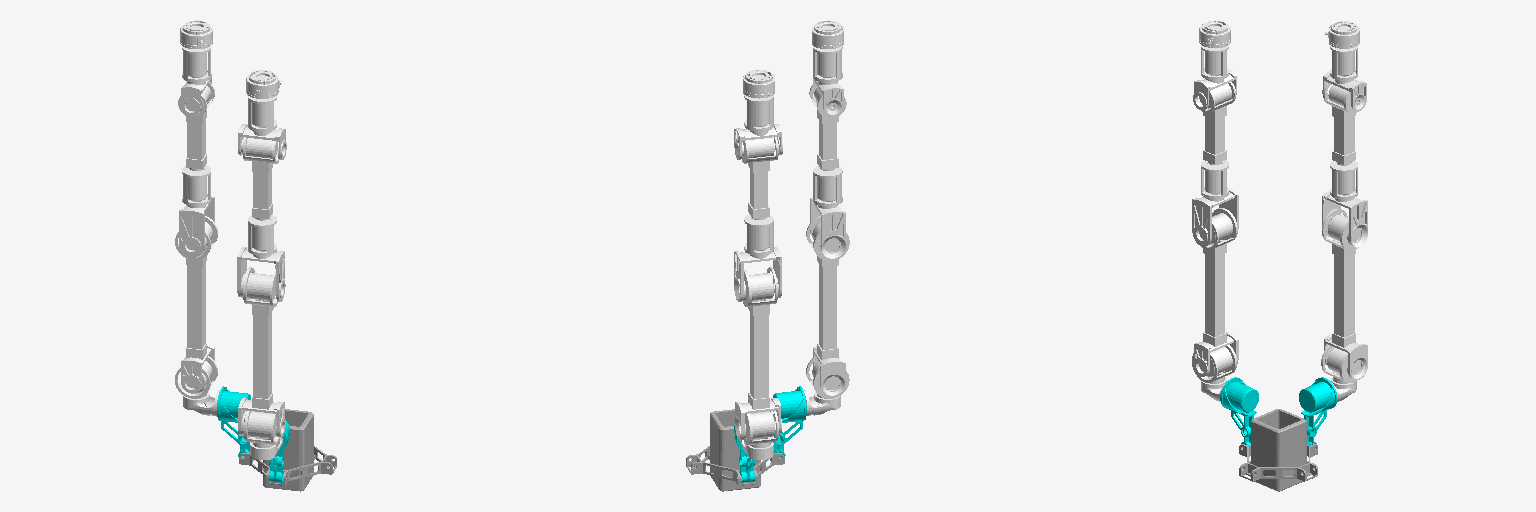
robot.urdf — robot_3dros:
<?xml version="1.0" ?>
<robot name="robot_3dros">
  <link name="base_link">
    <inertial>
      <origin rpy="0 0 0" xyz="0 0 0.042"/>
      <mass value="1.492"/>
      <inertia ixx="0.004886486" ixy="-0.000017397" ixz="-0.000263075" iyy="0.004100237" iyz="0" izz="0.003937989"/>
    </inertial>
    <visual>
      <origin rpy="0 0 0" xyz="0 0 0"/>
      <geometry>
        <mesh filename="package://robot_3dros/meshes/base_link.STL"/>
      </geometry>
      <material name="">
        <color rgba="0.75294 0.75294 0.75294 1"/>
      </material>
    </visual>
    <collision>
      <origin rpy="0 0 0" xyz="0 0 0.04"/>
      <geometry>
        <box size="0.10 0.10 0.14"/>
      </geometry>
      <surface>
        <friction>
          <torsional>
            <coefficient>5.0</coefficient>
            <surface_radius>0.10</surface_radius>
            <use_patch_radius>false</use_patch_radius>
          </torsional>
        </friction>
      </surface>
    </collision>
  </link>

  <link name="Link2_0">
    <inertial>
      <origin rpy="0 0 0" xyz="0.085427 -0.025518 0"/>
      <mass value="0.960"/>
      <inertia ixx="0.000648473" ixy="-0.001018876" ixz="0.000012959" iyy="0.002674366" iyz="0" izz="0.003031056"/>
    </inertial>
    <!--重心:(毫米)	X = 85.427 Y = -25.518 Z = -0.131
    惯性张量: (千克*平方毫米)由重心决定，并且对齐输出的坐标系。Lxx = 648.473	Lxy = -1018.876	Lxz = 12.959 Lyy = 2674.366	Lyz = 0.781	Lzz = 3031.056-->
    <visual>
      <origin rpy="0 0 0" xyz="0 0 0"/>
      <geometry>
        <mesh filename="package://robot_3dros/meshes/Link_0.STL"/>
      </geometry>
      <material name="">
        <color rgba="0 1 1 1"/>
      </material>
    </visual>
    <!--collision>
      <origin xyz="0 0 0" rpy="0 0 0" />
      <geometry> <mesh filename="package://robot_3dros/meshes/Link_0.STL" /> </geometry>
    </collision-->
  </link>
  <joint name="Joint2_0" type="fixed">
    <origin rpy="1.5707963267948966 -1.5708 2.356194490192345" xyz="-0.072125 0.072125 0.018"/>
    <parent link="base_link"/>
    <child link="Link2_0"/>
  </joint>
  <link name="Link2_1">
    <inertial>
      <origin rpy="0 0 0" xyz="0.052469 -0.009040 0.002060"/>
      <mass value="0.914"/>
      <inertia ixx="0.000671687" ixy="-0.000084224" ixz="-0.000107815" iyy="0.000786758" iyz="0.000017298" izz="0.000958254"/>
    </inertial>
    <!--重心:(毫米)	X = 52.469 Y = -9.040	Z = 2.060
    惯性张量:(千克*平方毫米)由重心决定，并且对齐输出的坐标系。Lxx = 671.687	Lxy = -84.224	Lxz = -107.815 Lyy = 786.758 Lyz = 17.298	Lzz = 958.254-->
    <visual>
      <origin rpy="0 0 0" xyz="0 0 0"/>
      <geometry>
        <mesh filename="package://robot_3dros/meshes/Link_1.STL"/>
      </geometry>
      <material name="">
        <color rgba="1 1 1 1"/>
      </material>
    </visual>
    <!--collision>
      <origin xyz="0 0 0" rpy="0 0 0" />
      <geometry> <mesh filename="package://robot_3dros/meshes/Link_1.STL" /> </geometry>
    </collision-->
  </link>
  <joint name="Joint2_1" type="revolute">
    <origin rpy="-1.5707963267948966 0 0" xyz="0.12 -0.117 0"/>
    <parent link="Link2_0"/>
    <child link="Link2_1"/>
    <axis xyz="0 0 1"/>
    <dynamics damping="0.2" friction="0.5"/>
    <limit effort="300" lower="-2.356194490192345" upper="4.71238898038469" velocity="10"/>
  </joint>
  <link name="Link2_2">
    <inertial>
      <origin rpy="0 0 0" xyz="0.273270 0.000006 0.007530"/>
      <mass value="1.144"/>
      <inertia ixx="0.000909959" ixy="0" ixz="0.000569994" iyy="0.018834040" iyz="0" izz="0.018336908"/>
    </inertial>
    <!--重心:(毫米)	X = 273.270	Y = 0.006	Z = 7.530
    惯性张量:(千克*平方毫米)由重心决定，并且对齐输出的坐标系。Lxx = 909.959	Lxy = 0.824	Lxz = 569.994	Lyy = 18834.040	Lyz = 0.056	Lzz = 18336.908-->
    <visual>
      <origin rpy="0 0 0" xyz="0 0 0"/>
      <geometry>
        <mesh filename="package://robot_3dros/meshes/Link_2.STL"/>
      </geometry>
      <material name="">
        <color rgba="1 1 1 1"/>
      </material>
    </visual>
    <collision>
      <origin rpy="0 1.5707963267948966 0" xyz="0.155 0 0"/>
      <geometry>
        <cylinder length="0.3" radius="0.02"/>
      </geometry>
      <!--geometry> <mesh filename="package://robot_3dros/meshes/Link_2.STL" /> </geometry-->
    </collision>
  </link>
  <joint name="Joint2_2" type="revolute">
    <origin rpy="1.5707963267948966 0 0" xyz="0.0625 -0.0025 0"/>
    <parent link="Link2_1"/>
    <child link="Link2_2"/>
    <axis xyz="0 0 1"/>
    <dynamics damping="0.2" friction="0.5"/>
    <limit effort="300" lower="-2.0943951023931953" upper="1.5707963267948966" velocity="10"/>
  </joint>
  <link name="Link2_3">
    <inertial>
      <origin rpy="0 0 0" xyz="0.081336 -0.0003 -0.000693"/>
      <mass value="0.395"/>
      <inertia ixx="0.000576423" ixy="0" ixz="0.000031283" iyy="0.001662107" iyz="0" izz="0.001334389"/>
    </inertial>
    <!--重心:(毫米)	X = 81.336 Y = -0.003	Z = -0.693
    惯性张量:(千克*平方毫米)由重心决定，并且对齐输出的坐标系。Lxx = 576.423	Lxy = -0.053 Lxz = 31.283 Lyy = 1662.107	Lyz = -0.009 Lzz = 1334.389-->
    <visual>
      <origin rpy="0 0 0" xyz="0 0 0"/>
      <geometry>
        <mesh filename="package://robot_3dros/meshes/Link_3.STL"/>
      </geometry>
      <material name="">
        <color rgba="1 1 1 1"/>
      </material>
    </visual>
    <collision>
      <origin rpy="0 1.5707963267948966 0" xyz="0.16 0 0"/>
      <geometry>
        <cylinder length="0.2" radius="0.02"/>
      </geometry>
      <!--geometry> <mesh filename="package://robot_3dros/meshes/Link_3.STL" /> </geometry-->
    </collision>
  </link>
  <joint name="Joint2_3" type="revolute">
    <origin rpy="-3.141592653589793 0 0" xyz="0.35 0.0002 0"/>
    <parent link="Link2_2"/>
    <child link="Link2_3"/>
    <axis xyz="0 0 1"/>
    <dynamics damping="0.2" friction="0.5"/>
    <limit effort="300" lower="-2.530727415391778" upper="2.530727415391778" velocity="10"/>
  </joint>
  <link name="Link2_4">
    <inertial>
      <origin rpy="0 0 0" xyz="0.005438 0.000120 0.134002"/>
      <mass value="0.376"/>
      <inertia ixx="0.0001484574" ixy="0" ixz="0.000099045" iyy="0.001658464" iyz="-0.000002871" izz="0.000360737"/>
    </inertial>
    <!--重心:(毫米)	X = 5.438	Y = 0.120	Z = 134.002
    惯性张量:(千克*平方毫米)由重心决定，并且对齐输出的坐标系。Lxx = 1484.574	Lxy = -0.250 Lxz = 99.045 Lyy = 1658.464 Lyz = -2.871 Lzz = 360.737-->
    <visual>
      <origin rpy="0 0 0" xyz="0 0 0"/>
      <geometry>
        <mesh filename="package://robot_3dros/meshes/Link_4.STL"/>
      </geometry>
      <material name="">
        <color rgba="1 1 1 1"/>
      </material>
    </visual>
    <!--collision>
      <origin xyz="0 0 0.08" rpy="0 0 0" />
      <geometry> <mesh filename="package://robot_3dros/meshes/Link_4.STL" /> </geometry>
    </collision-->
  </link>
  <joint name="Joint2_4" type="revolute">
    <origin rpy="0 -1.5707963267948966 -3.141592653589793" xyz="0.1745 0 0"/>
    <parent link="Link2_3"/>
    <child link="Link2_4"/>
    <axis xyz="0 0 1"/>
    <dynamics damping="0.2" friction="0.5"/>
    <limit effort="100" lower="-3.141592653589793" upper="3.141592653589793" velocity="10"/>
  </joint>
  <link name="Link2_5">
    <inertial>
      <origin rpy="0 0 0" xyz="0.058277 0 -0.001068"/>
      <mass value="0.327"/>
      <inertia ixx="0.000412080" ixy="0" ixz="0.000002889" iyy="0.000943104" iyz="0" izz="0.000708641"/>
    </inertial>
    <!--重心:(毫米)	X = 58.277 Y = 0.004 Z = -1.068
        惯性张量:(千克*平方毫米)由重心决定，并且对齐输出的坐标系。Lxx = 412.080	Lxy = 0.032	Lxz = 2.889	Lyy = 943.104	Lyz = -0.003 Lzz = 708.641-->
    <visual>
      <origin rpy="0 0 0" xyz="0 0 0"/>
      <geometry>
        <mesh filename="package://robot_3dros/meshes/Link_5.STL"/>
      </geometry>
      <material name="">
        <color rgba="1 1 1 1"/>
      </material>
    </visual>
    <!--collision>
      <origin xyz="0.08 0 0" rpy="0 0 0" />
      <geometry> <mesh filename="package://robot_3dros/meshes/Link_5.STL" /> </geometry>
    </collision-->
  </link>
  <joint name="Joint2_5" type="revolute">
    <origin rpy="3.141592653589793 -1.5707963267948966 0" xyz="0 0 0.1795"/>
    <parent link="Link2_4"/>
    <child link="Link2_5"/>
    <axis xyz="0 0 1"/>
    <dynamics damping="0.2" friction="0.5"/>
    <limit effort="100" lower="-1.9198621771937623" upper="1.9198621771937623" velocity="10"/>
  </joint>
  <link name="Link2_6">
    <inertial>
      <origin rpy="0 0 0" xyz="-0.000076 -0.001467 0.088450"/>
      <mass value="0.366"/>
      <inertia ixx="0.000945510" ixy="-0.000011196" ixz="0" iyy="0.000811306" iyz="-0.000011704" izz="0.000402389"/>
    </inertial>
    <!--重心:(毫米)	X = -0.094 Y = -1.809 Z = 70.443
    惯性张量:(千克*平方毫米)由重心决定，并且对齐输出的坐标系。Lxx = 945.510	Lxy = -11.196	Lxz = -0.115	Lyy = 811.306	Lyz = -11.704	Lzz = 402.389-->
    <visual>
      <origin rpy="0 0 0" xyz="0 0 0"/>
      <geometry>
        <mesh filename="package://robot_3dros/meshes/Link_6.STL"/>
      </geometry>
      <material name="">
        <color rgba="1 1 1 1"/>
      </material>
    </visual>
    <collision>
      <origin rpy="0 0 0" xyz="0 0 -0.06"/>
      <geometry>
        <cylinder length="0.1" radius="0.02"/>
      </geometry>
      <!--geometry> <mesh filename="package://robot_3dros/meshes/Link_6.STL" /> </geometry-->
    </collision>
  </link>
  <joint name="Joint2_6" type="revolute">
    <origin rpy="3.141592653589793 -1.5707963267948966 0" xyz="0.141 0 0"/>
    <parent link="Link2_5"/>
    <child link="Link2_6"/>
    <axis xyz="0 0 1"/>
    <dynamics damping="0.2" friction="0.5"/>
    <limit effort="100" lower="-3.141592653589793" upper="3.141592653589793" velocity="10"/>
  </joint>

  <link name="Link3_0">
    <inertial>
      <origin rpy="0 0 0" xyz="0.085427 -0.025518 0"/>
      <mass value="0.960"/>
      <inertia ixx="0.000648473" ixy="-0.001018876" ixz="0.000012959" iyy="0.002674366" iyz="0" izz="0.003031056"/>
    </inertial>
    <!--重心:(毫米)	X = 85.427 Y = -25.518 Z = -0.131
    惯性张量: (千克*平方毫米)由重心决定，并且对齐输出的坐标系。Lxx = 648.473	Lxy = -1018.876	Lxz = 12.959 Lyy = 2674.366	Lyz = 0.781	Lzz = 3031.056-->
    <visual>
      <origin rpy="0 0 0" xyz="0 0 0"/>
      <geometry>
        <mesh filename="package://robot_3dros/meshes/Link_0.STL"/>
      </geometry>
      <material name="">
        <color rgba="0 1 1 1"/>
      </material>
    </visual>
    <!--collision>
      <origin xyz="0 0 0" rpy="0 0 0" />
      <geometry> <mesh filename="package://robot_3dros/meshes/Link_0.STL" /> </geometry>
    </collision-->
  </link>
  <joint name="Joint3_0" type="fixed">
    <origin rpy="1.5707963267948966 -1.5708 3.9269908169872414" xyz="-0.072125 -0.072125 0.018"/>
    <parent link="base_link"/>
    <child link="Link3_0"/>
  </joint>
  <link name="Link3_1">
    <inertial>
      <origin rpy="0 0 0" xyz="0.052469 -0.009040 0.002060"/>
      <mass value="0.914"/>
      <inertia ixx="0.000671687" ixy="-0.000084224" ixz="-0.000107815" iyy="0.000786758" iyz="0.000017298" izz="0.000958254"/>
    </inertial>
    <!--重心:(毫米)	X = 52.469 Y = -9.040	Z = 2.060
    惯性张量:(千克*平方毫米)由重心决定，并且对齐输出的坐标系。Lxx = 671.687	Lxy = -84.224	Lxz = -107.815 Lyy = 786.758 Lyz = 17.298	Lzz = 958.254-->
    <visual>
      <origin rpy="0 0 0" xyz="0 0 0"/>
      <geometry>
        <mesh filename="package://robot_3dros/meshes/Link_1.STL"/>
      </geometry>
      <material name="">
        <color rgba="1 1 1 1"/>
      </material>
    </visual>
    <!--collision>
      <origin xyz="0 0 0" rpy="0 0 0" />
      <geometry> <mesh filename="package://robot_3dros/meshes/Link_1.STL" /> </geometry>
    </collision-->
  </link>
  <joint name="Joint3_1" type="revolute">
    <origin rpy="-1.5707963267948966 0 0" xyz="0.12 -0.117 0"/>
    <parent link="Link3_0"/>
    <child link="Link3_1"/>
    <axis xyz="0 0 1"/>
    <dynamics damping="0.2" friction="0.5"/>
    <limit effort="300" lower="-2.356194490192345" upper="4.71238898038469" velocity="10"/>
  </joint>
  <link name="Link3_2">
    <inertial>
      <origin rpy="0 0 0" xyz="0.273270 0.000006 0.007530"/>
      <mass value="1.144"/>
      <inertia ixx="0.000909959" ixy="0" ixz="0.000569994" iyy="0.018834040" iyz="0" izz="0.018336908"/>
    </inertial>
    <!--重心:(毫米)	X = 273.270	Y = 0.006	Z = 7.530
    惯性张量:(千克*平方毫米)由重心决定，并且对齐输出的坐标系。Lxx = 909.959	Lxy = 0.824	Lxz = 569.994	Lyy = 18834.040	Lyz = 0.056	Lzz = 18336.908-->
    <visual>
      <origin rpy="0 0 0" xyz="0 0 0"/>
      <geometry>
        <mesh filename="package://robot_3dros/meshes/Link_2.STL"/>
      </geometry>
      <material name="">
        <color rgba="1 1 1 1"/>
      </material>
    </visual>
    <collision>
      <origin rpy="0 1.5707963267948966 0" xyz="0.155 0 0"/>
      <geometry>
        <cylinder length="0.3" radius="0.02"/>
      </geometry>
      <!--geometry> <mesh filename="package://robot_3dros/meshes/Link_2.STL" /> </geometry-->
    </collision>
  </link>
  <joint name="Joint3_2" type="revolute">
    <origin rpy="1.5707963267948966 0 0" xyz="0.0625 -0.0025 0"/>
    <parent link="Link3_1"/>
    <child link="Link3_2"/>
    <axis xyz="0 0 1"/>
    <dynamics damping="0.2" friction="0.5"/>
    <limit effort="300" lower="-2.0943951023931953" upper="1.5707963267948966" velocity="10"/>
  </joint>
  <link name="Link3_3">
    <inertial>
      <origin rpy="0 0 0" xyz="0.081336 -0.0003 -0.000693"/>
      <mass value="0.395"/>
      <inertia ixx="0.000576423" ixy="0" ixz="0.000031283" iyy="0.001662107" iyz="0" izz="0.001334389"/>
    </inertial>
    <!--重心:(毫米)	X = 81.336 Y = -0.003	Z = -0.693
    惯性张量:(千克*平方毫米)由重心决定，并且对齐输出的坐标系。Lxx = 576.423	Lxy = -0.053 Lxz = 31.283 Lyy = 1662.107	Lyz = -0.009 Lzz = 1334.389-->
    <visual>
      <origin rpy="0 0 0" xyz="0 0 0"/>
      <geometry>
        <mesh filename="package://robot_3dros/meshes/Link_3.STL"/>
      </geometry>
      <material name="">
        <color rgba="1 1 1 1"/>
      </material>
    </visual>
    <collision>
      <origin rpy="0 1.5707963267948966 0" xyz="0.16 0 0"/>
      <geometry>
        <cylinder length="0.2" radius="0.02"/>
      </geometry>
      <!--geometry> <mesh filename="package://robot_3dros/meshes/Link_3.STL" /> </geometry-->
    </collision>
  </link>
  <joint name="Joint3_3" type="revolute">
    <origin rpy="-3.141592653589793 0 0" xyz="0.35 0.0002 0"/>
    <parent link="Link3_2"/>
    <child link="Link3_3"/>
    <axis xyz="0 0 1"/>
    <dynamics damping="0.2" friction="0.5"/>
    <limit effort="300" lower="-2.530727415391778" upper="2.530727415391778" velocity="10"/>
  </joint>
  <link name="Link3_4">
    <inertial>
      <origin rpy="0 0 0" xyz="0.005438 0.000120 0.134002"/>
      <mass value="0.376"/>
      <inertia ixx="0.0001484574" ixy="0" ixz="0.000099045" iyy="0.001658464" iyz="-0.000002871" izz="0.000360737"/>
    </inertial>
    <!--重心:(毫米)	X = 5.438	Y = 0.120	Z = 134.002
    惯性张量:(千克*平方毫米)由重心决定，并且对齐输出的坐标系。Lxx = 1484.574	Lxy = -0.250 Lxz = 99.045 Lyy = 1658.464 Lyz = -2.871 Lzz = 360.737-->
    <visual>
      <origin rpy="0 0 0" xyz="0 0 0"/>
      <geometry>
        <mesh filename="package://robot_3dros/meshes/Link_4.STL"/>
      </geometry>
      <material name="">
        <color rgba="1 1 1 1"/>
      </material>
    </visual>
    <!--collision>
      <origin xyz="0 0 0.08" rpy="0 0 0" />
      <geometry> <mesh filename="package://robot_3dros/meshes/Link_4.STL" /> </geometry>
    </collision-->
  </link>
  <joint name="Joint3_4" type="revolute">
    <origin rpy="0 -1.5707963267948966 -3.141592653589793" xyz="0.1745 0 0"/>
    <parent link="Link3_3"/>
    <child link="Link3_4"/>
    <axis xyz="0 0 1"/>
    <dynamics damping="0.2" friction="0.5"/>
    <limit effort="100" lower="-3.141592653589793" upper="3.141592653589793" velocity="10"/>
  </joint>
  <link name="Link3_5">
    <inertial>
      <origin rpy="0 0 0" xyz="0.058277 0 -0.001068"/>
      <mass value="0.327"/>
      <inertia ixx="0.000412080" ixy="0" ixz="0.000002889" iyy="0.000943104" iyz="0" izz="0.000708641"/>
    </inertial>
    <!--重心:(毫米)	X = 58.277 Y = 0.004 Z = -1.068
        惯性张量:(千克*平方毫米)由重心决定，并且对齐输出的坐标系。Lxx = 412.080	Lxy = 0.032	Lxz = 2.889	Lyy = 943.104	Lyz = -0.003 Lzz = 708.641-->
    <visual>
      <origin rpy="0 0 0" xyz="0 0 0"/>
      <geometry>
        <mesh filename="package://robot_3dros/meshes/Link_5.STL"/>
      </geometry>
      <material name="">
        <color rgba="1 1 1 1"/>
      </material>
    </visual>
    <!--collision>
      <origin xyz="0.08 0 0" rpy="0 0 0" />
      <geometry> <mesh filename="package://robot_3dros/meshes/Link_5.STL" /> </geometry>
    </collision-->
  </link>
  <joint name="Joint3_5" type="revolute">
    <origin rpy="3.141592653589793 -1.5707963267948966 0" xyz="0 0 0.1795"/>
    <parent link="Link3_4"/>
    <child link="Link3_5"/>
    <axis xyz="0 0 1"/>
    <dynamics damping="0.2" friction="0.5"/>
    <limit effort="100" lower="-1.9198621771937623" upper="1.9198621771937623" velocity="10"/>
  </joint>
  <link name="Link3_6">
    <inertial>
      <origin rpy="0 0 0" xyz="-0.000076 -0.001467 0.088450"/>
      <mass value="0.366"/>
      <inertia ixx="0.000945510" ixy="-0.000011196" ixz="0" iyy="0.000811306" iyz="-0.000011704" izz="0.000402389"/>
    </inertial>
    <!--重心:(毫米)	X = -0.094 Y = -1.809 Z = 70.443
    惯性张量:(千克*平方毫米)由重心决定，并且对齐输出的坐标系。Lxx = 945.510	Lxy = -11.196	Lxz = -0.115	Lyy = 811.306	Lyz = -11.704	Lzz = 402.389-->
    <visual>
      <origin rpy="0 0 0" xyz="0 0 0"/>
      <geometry>
        <mesh filename="package://robot_3dros/meshes/Link_6.STL"/>
      </geometry>
      <material name="">
        <color rgba="1 1 1 1"/>
      </material>
    </visual>
    <collision>
      <origin rpy="0 0 0" xyz="0 0 -0.06"/>
      <geometry>
        <cylinder length="0.1" radius="0.02"/>
      </geometry>
      <!--geometry> <mesh filename="package://robot_3dros/meshes/Link_6.STL" /> </geometry-->
    </collision>
  </link>
  <joint name="Joint3_6" type="revolute">
    <origin rpy="3.141592653589793 -1.5707963267948966 0" xyz="0.141 0 0"/>
    <parent link="Link3_5"/>
    <child link="Link3_6"/>
    <axis xyz="0 0 1"/>
    <dynamics damping="0.2" friction="0.5"/>
    <limit effort="100" lower="-3.141592653589793" upper="3.141592653589793" velocity="10"/>
  </joint>

</robot>

--- Render facts (derived) ---
3 views of the same robot in one strip: view 1: azimuth 30°, elevation 25°; view 2: azimuth 150°, elevation 25°; view 3: azimuth 270°, elevation 25° (orthographic).
Robot: robot_3dros — 15 links, 14 joints (12 revolute, 2 fixed); root link base_link; default pose: all joints at 0.
Links seen in each view (by area): view 1: Link3_2, Link2_2, base_link, Link2_3, Link3_3, Link3_4, Link3_5, Link2_5, Link2_4, Link3_1, Link2_1, Link2_0 (+2 smaller); view 2: Link2_2, Link3_2, base_link, Link3_3, Link2_3, Link2_4, Link3_5, Link2_5, Link2_1, Link3_4, Link3_0, Link3_1 (+2 smaller); view 3: base_link, Link2_2, Link3_2, Link3_3, Link2_3, Link3_4, Link2_4, Link2_5, Link3_5, Link3_0, Link2_0, Link3_1 (+3 smaller).
Boxes of the visible links, left/top/right/bottom form: Link3_2: left=238, top=267, right=285, bottom=437; Link2_2: left=175, top=216, right=217, bottom=393; base_link: left=239, top=409, right=336, bottom=491; Link2_3: left=179, top=165, right=214, bottom=257; Link3_3: left=237, top=215, right=285, bottom=301; Link3_4: left=243, top=137, right=278, bottom=220; Link3_5: left=238, top=96, right=286, bottom=159; Link2_5: left=181, top=46, right=211, bottom=115; Link2_4: left=178, top=82, right=214, bottom=170; Link3_1: left=244, top=411, right=282, bottom=459; Link2_1: left=175, top=356, right=219, bottom=416; Link2_0: left=217, top=386, right=250, bottom=457; Link2_2: left=735, top=267, right=781, bottom=440; Link3_2: left=806, top=216, right=849, bottom=396; base_link: left=686, top=409, right=784, bottom=491; Link3_3: left=810, top=165, right=845, bottom=258; Link2_3: left=734, top=214, right=781, bottom=301; Link2_4: left=742, top=137, right=778, bottom=219; Link3_5: left=813, top=46, right=843, bottom=116; Link2_5: left=734, top=95, right=782, bottom=159; Link2_1: left=741, top=411, right=778, bottom=459; Link3_4: left=809, top=82, right=846, bottom=170; Link3_0: left=773, top=386, right=806, bottom=457; Link3_1: left=804, top=356, right=849, bottom=415; base_link: left=1239, top=409, right=1317, bottom=491; Link2_2: left=1322, top=209, right=1367, bottom=379; Link3_2: left=1194, top=208, right=1238, bottom=376; Link3_3: left=1192, top=160, right=1238, bottom=246; Link2_3: left=1322, top=161, right=1367, bottom=247; Link3_4: left=1198, top=82, right=1235, bottom=164; Link2_4: left=1323, top=83, right=1356, bottom=165; Link2_5: left=1322, top=45, right=1366, bottom=111; Link3_5: left=1193, top=45, right=1236, bottom=110; Link3_0: left=1220, top=377, right=1258, bottom=447; Link2_0: left=1299, top=377, right=1337, bottom=445; Link3_1: left=1192, top=345, right=1236, bottom=401.
Size in the robot's own frame: 0.3086 by 0.4224 by 1.13 metres.
15 mesh visuals loaded from 8 distinct referenced files (8 binary STL).
